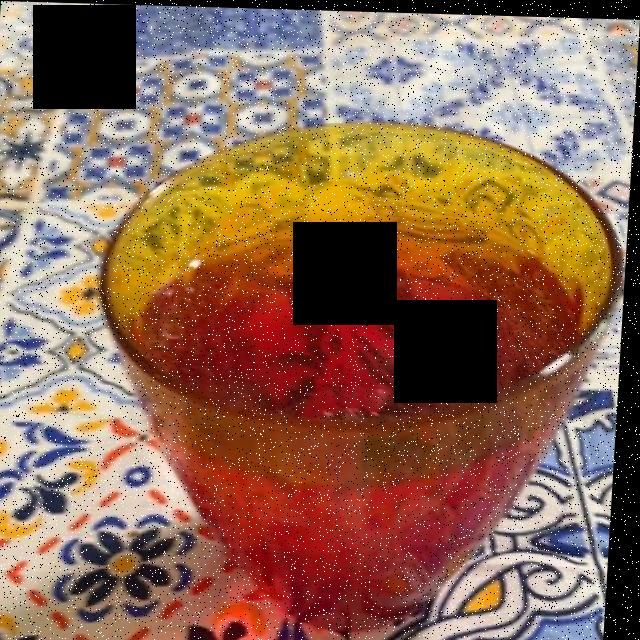tea: (111, 165, 583, 424)
